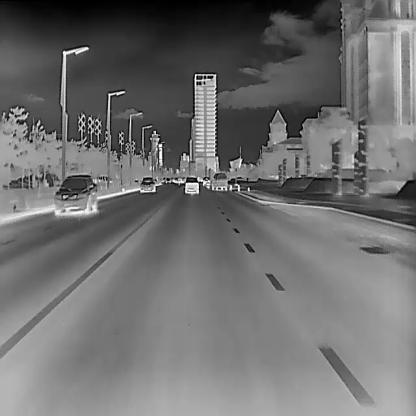car: (53, 173, 97, 216), (183, 176, 199, 193), (211, 172, 226, 190), (139, 176, 154, 192), (202, 176, 209, 186)
